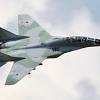maybay_muctieu: (1, 12, 98, 86)
